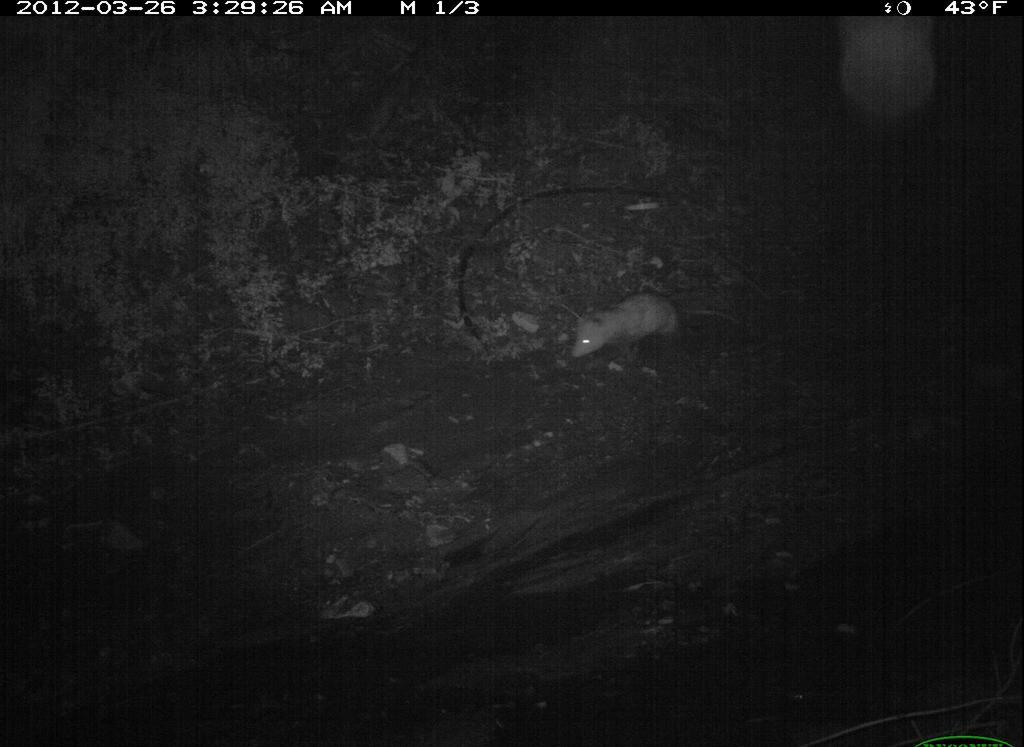opossum: (555, 285, 739, 378)
